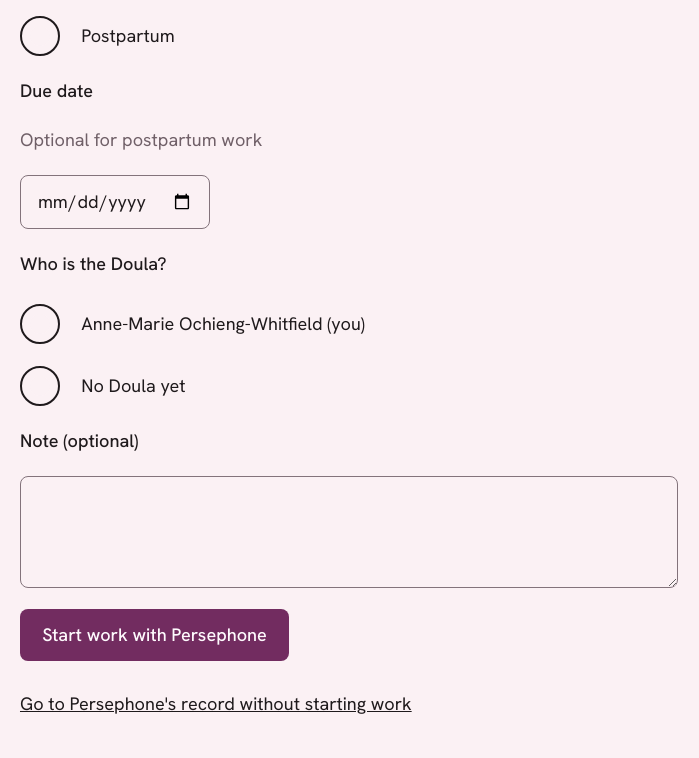
Scenario: the Engagement Request screen › a press the balance refuses (#2186) › lists the refusal beside the questions still unanswered, so one press says everything
The width and height of the screenshot is (699, 758).
(page scrolled)
Click the button "Start work with Persephone". click: (155, 635)
box: [20,609,289,661]
(page scrolled)
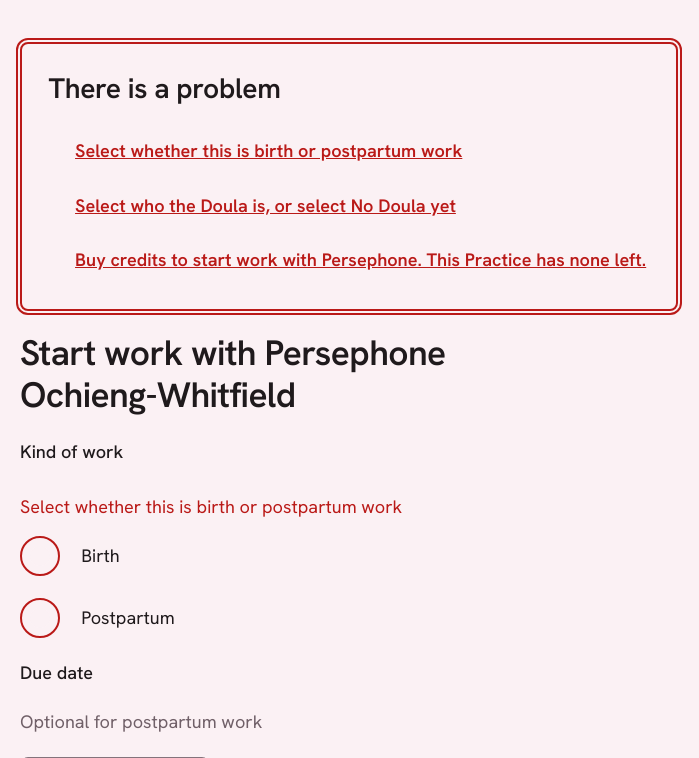
Check: the link "Select whether this is birth or postpartum work" is shown, box [75,139,462,162]
